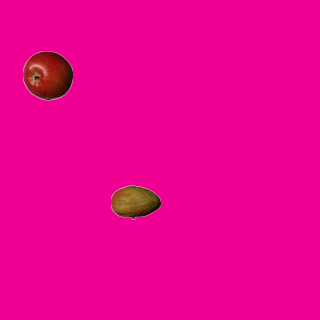Apple Braeburn: (22, 50, 72, 100)
Papaya: (110, 177, 160, 227)
